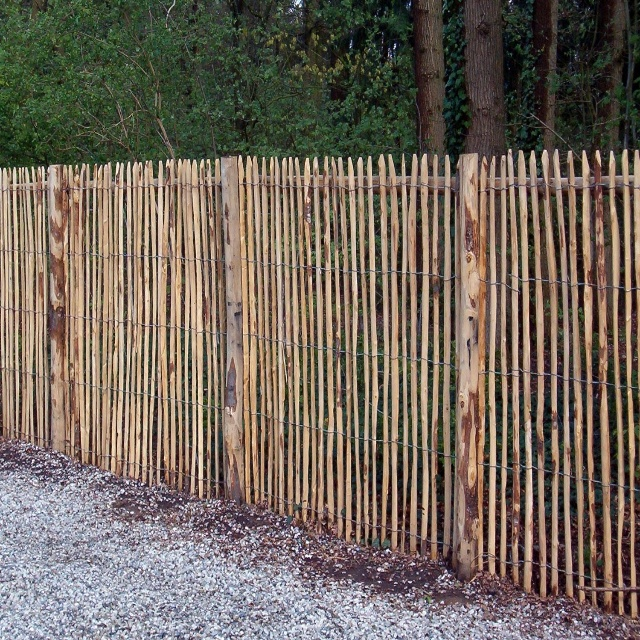obstacle: (104, 0, 640, 638)
